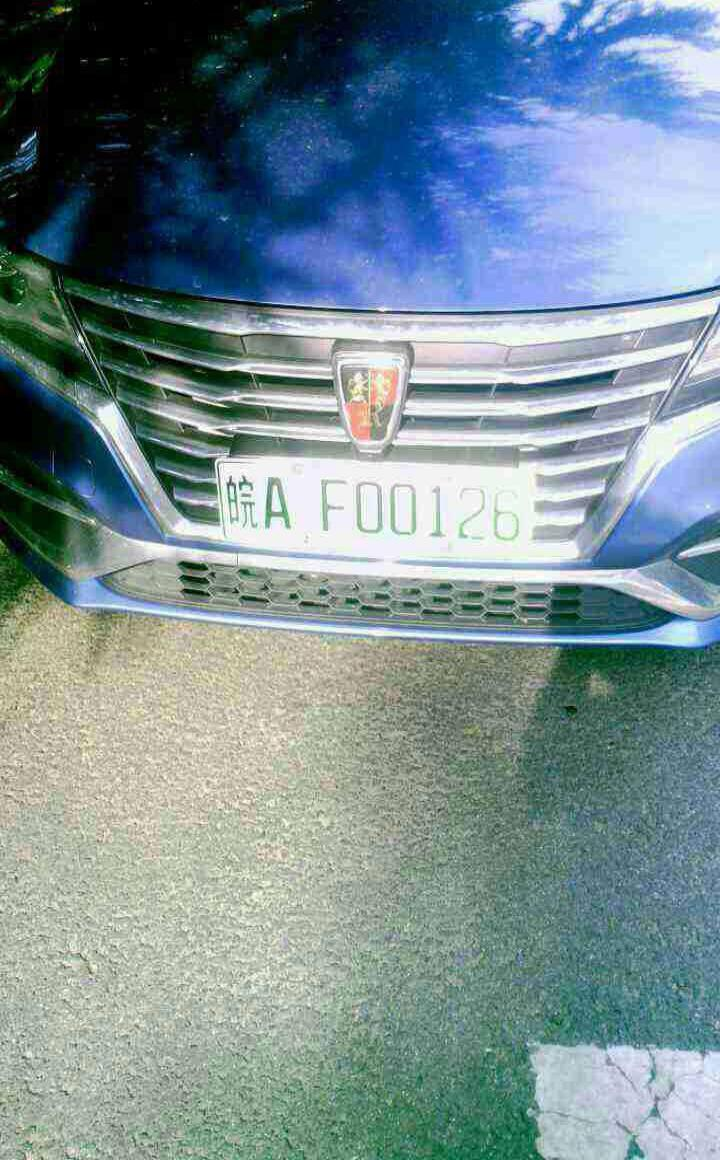car_id: (212, 466, 530, 544)
